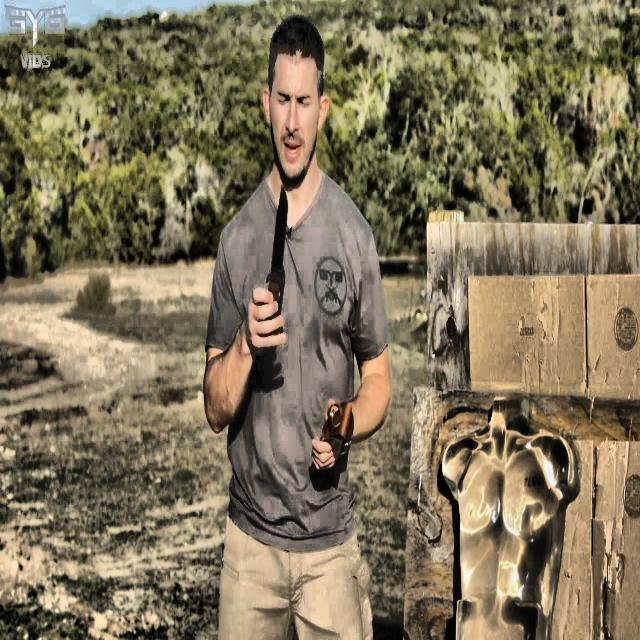knife: (266, 185, 288, 317)
